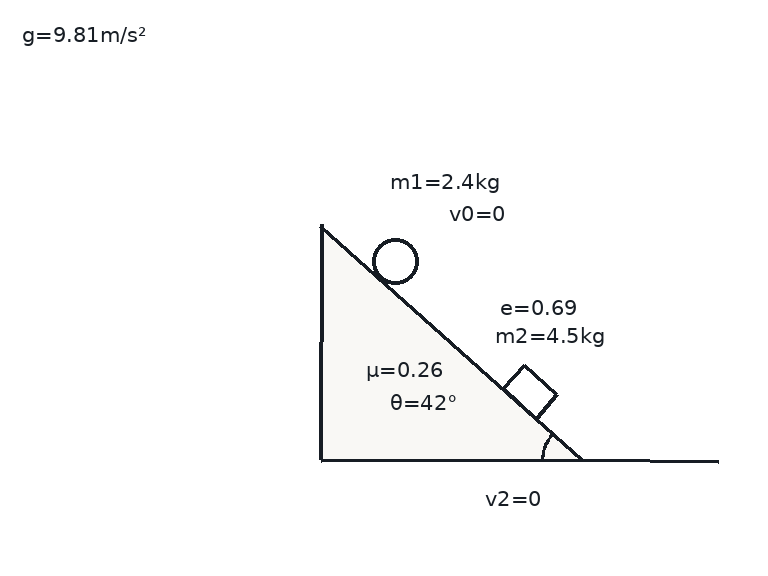ball: (370, 236, 420, 286)
block: (501, 363, 559, 420)
ramp: (318, 222, 584, 462)
